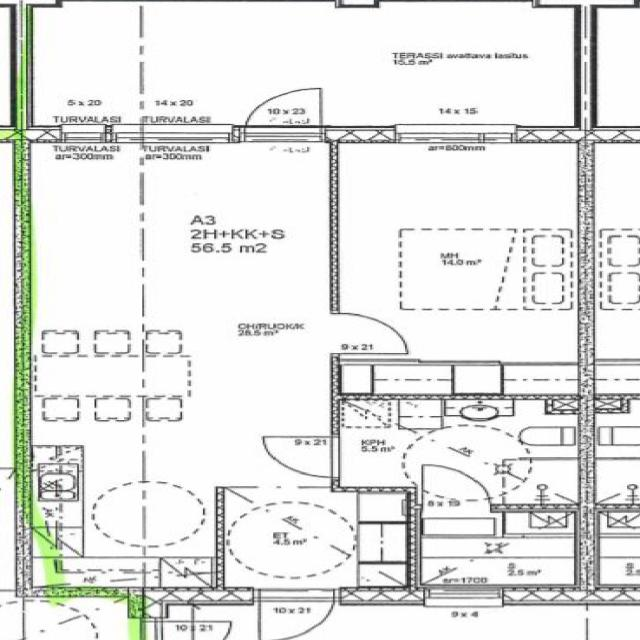door: (245, 81, 320, 142), (260, 586, 333, 640), (260, 436, 338, 476), (329, 314, 406, 354), (422, 466, 489, 510)
